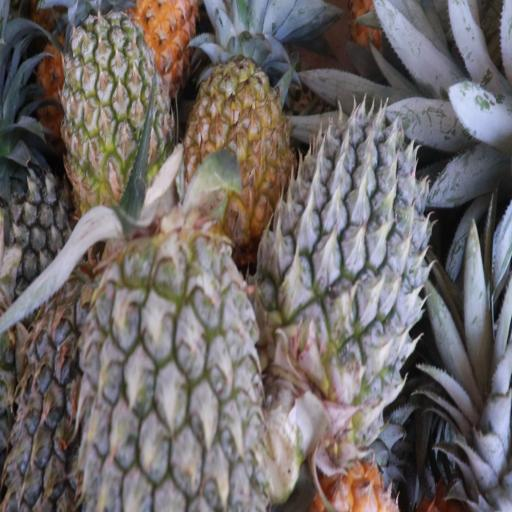------------------------------: (59, 0, 172, 215)
Pineapple - v8 v1: (179, 56, 287, 236)
